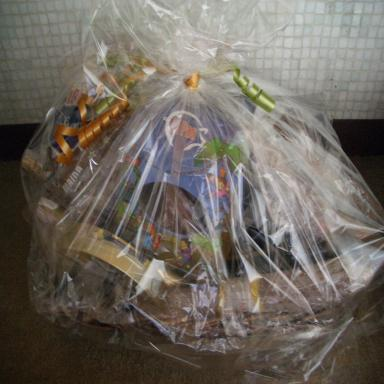plasticbag: (20, 0, 384, 383)
